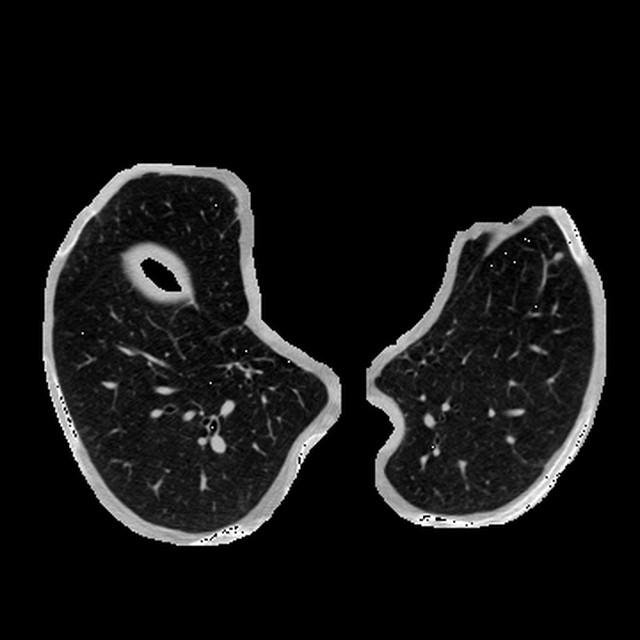PN: (555, 252, 562, 260)
